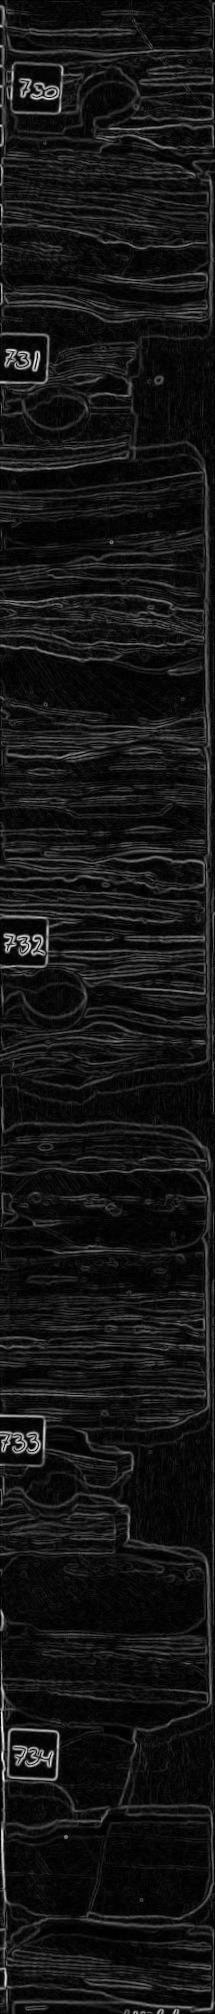hplug: (14, 1451, 88, 1534), (67, 62, 144, 134), (17, 959, 91, 1033), (8, 1766, 75, 1843), (14, 375, 91, 441)
vplug: (108, 1418, 192, 1566), (117, 312, 183, 466)
